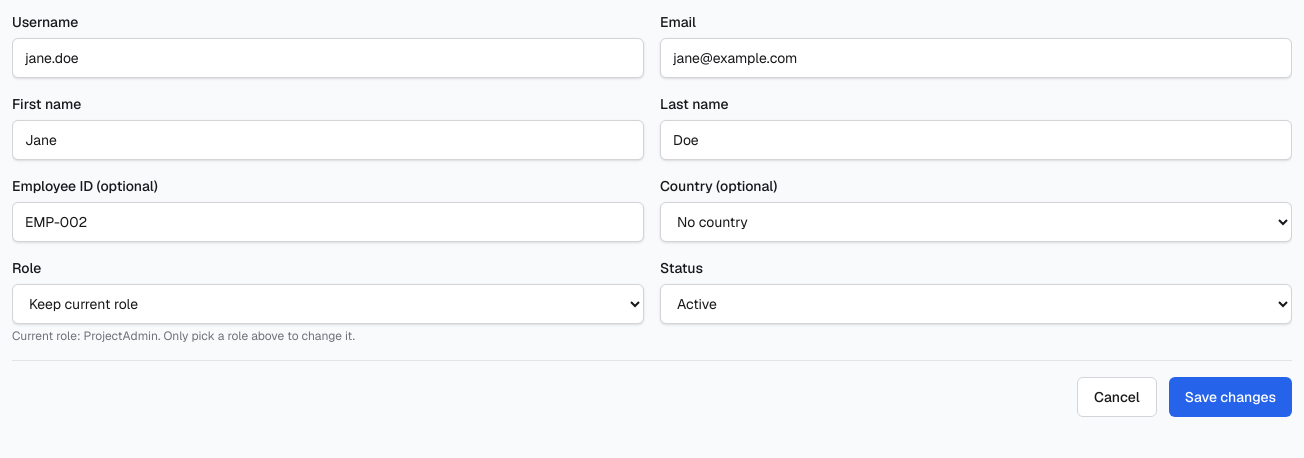
UserEditForm › shows a validation error and does not submit when a required field is cleared
Clear the field labelled "Email". click: (976, 58)
box: [660, 38, 1292, 78]
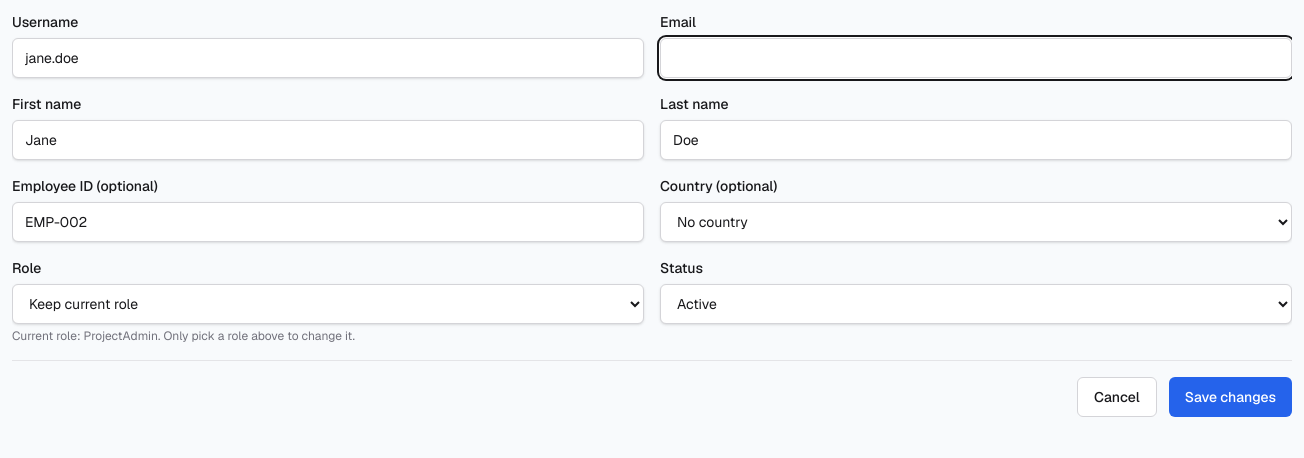
Click the button "Save changes". click: click(1230, 397)
box: [1169, 377, 1292, 417]
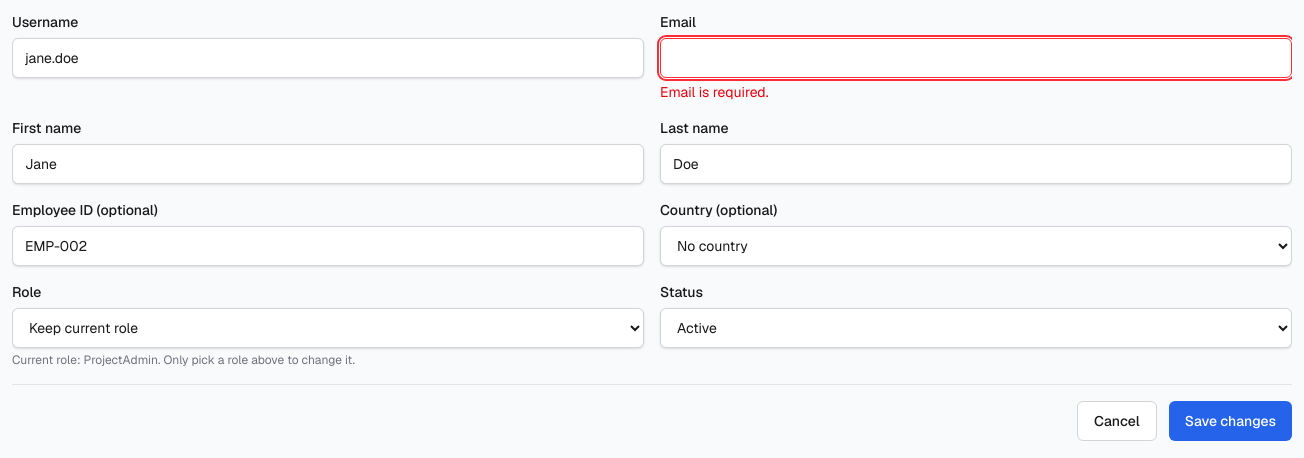
Now the text "Email is required." is shown, box [660, 83, 768, 101]
